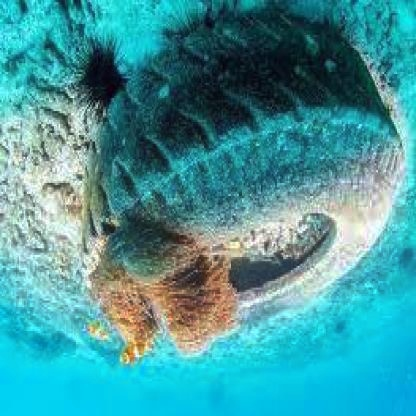tire: (84, 6, 411, 362)
